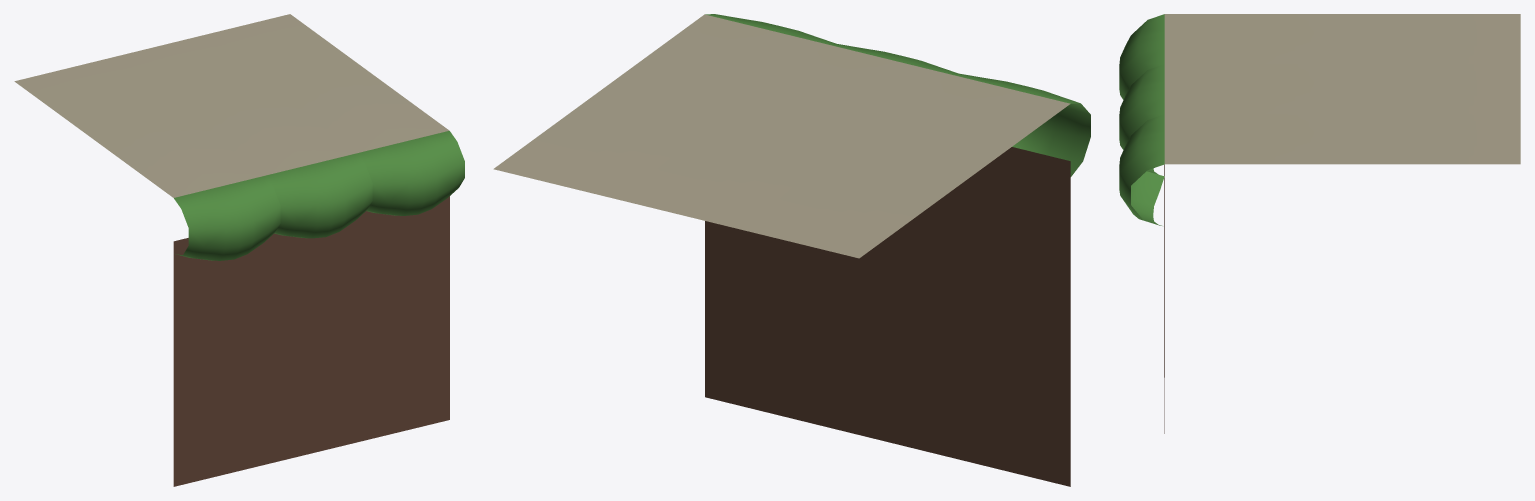
File: ForestTile_Edge.fbx
3 views of the same model, side by side, from view 1: azimuth 30°, elevation 25°; view 2: azimuth 150°, elevation 25°; view 3: azimuth 270°, elevation 25° (orthographic). The views are drawn at different scales.
Parts seen in each view (by area): view 1: ForestTile_Edge; view 2: ForestTile_Edge; view 3: ForestTile_Edge.
Boxes of the visible parts, x1,y1,x2,y2 form: ForestTile_Edge: [14, 14, 464, 486]; ForestTile_Edge: [493, 14, 1090, 486]; ForestTile_Edge: [1119, 14, 1520, 433].
Bounding box in the file's own units: 90 × 90 × 101.
